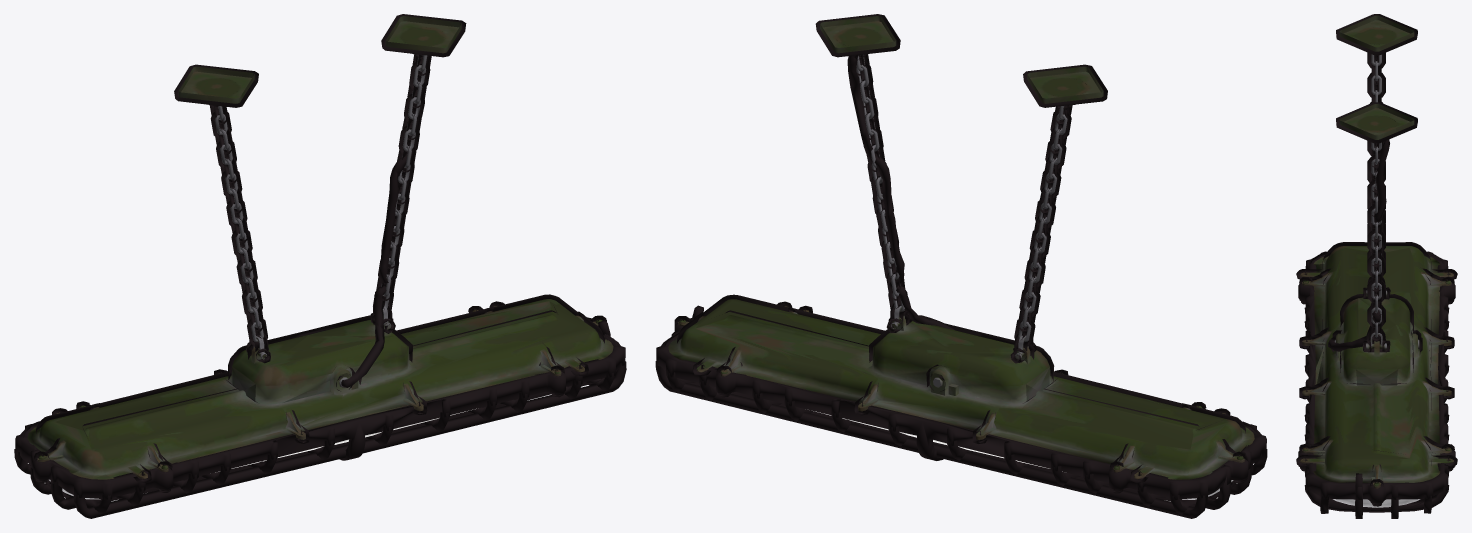
Rendered from SM_Int_CageLight.fbx.
3 renders of one model, left to right at view 1: azimuth 30°, elevation 25°; view 2: azimuth 150°, elevation 25°; view 3: azimuth 270°, elevation 25°, orthographic. The views are drawn at different scales.
Parts seen in each view (by area): view 1: SM_Int_CageLight; view 2: SM_Int_CageLight; view 3: SM_Int_CageLight.
Boxes of the visible parts, bbox=[...] form: SM_Int_CageLight: bbox=[14, 14, 626, 518]; SM_Int_CageLight: bbox=[655, 14, 1267, 518]; SM_Int_CageLight: bbox=[1296, 14, 1457, 518].
Bounding box in the file's own units: 1.17 × 0.7559 × 0.3298.
